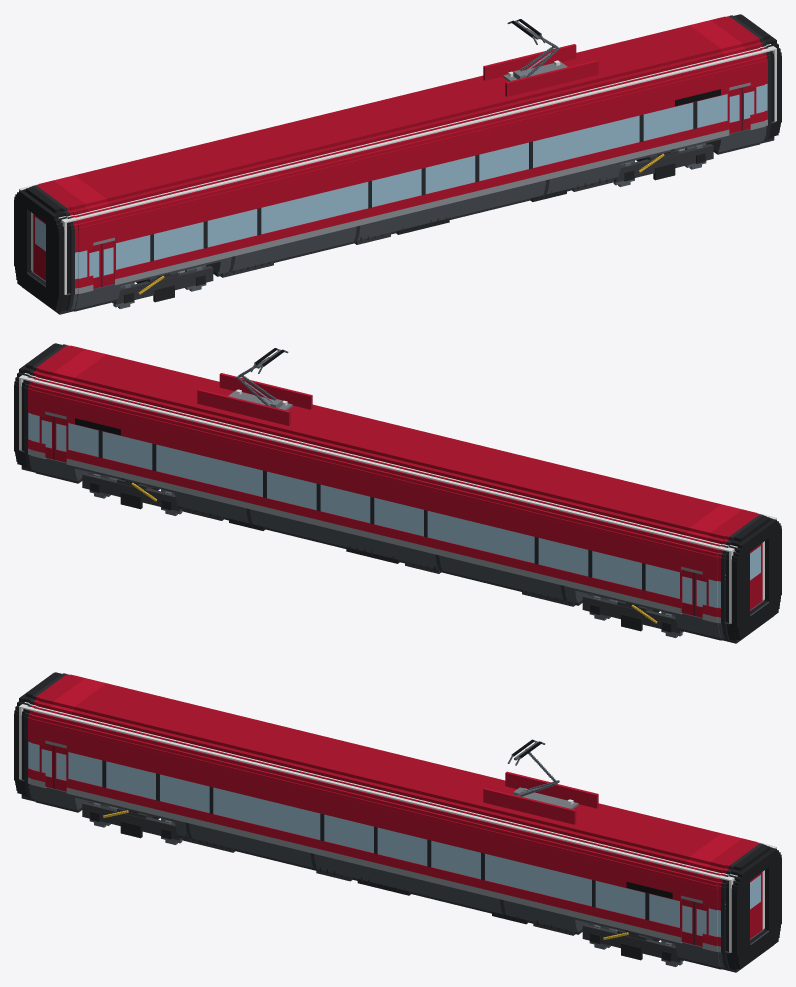
File: frecciarossa_car.obj
3 views of the same model, one above another, from view 1: azimuth 30°, elevation 25°; view 2: azimuth 150°, elevation 25°; view 3: azimuth 330°, elevation 25° (orthographic).
Parts seen in each view (by area): view 1: SHELL, SHELL_diaphragm, SHELL_ceiling, SHELL_pantograph, BOGEY_FRONT, BOGEY_REAR, FRAME, CONNECTING_DOOR_1_CG_CR_TOGGLE_TL_0.98_Z, SHELL_end, EXTERNAL_DOOR_10_CG_DR2_TOGGLE_TL_-0.44_X, EXTERNAL_DOOR_5_CG_DR1_TOGGLE_TL_0.44_X, EXTERNAL_DOOR_4_CG_DR1_TOGGLE_TL_-0.44_X; view 2: SHELL, SHELL_diaphragm, SHELL_ceiling, SHELL_pantograph, BOGEY_FRONT, BOGEY_REAR, FRAME, CONNECTING_DOOR_1_CG_CR_TOGGLE_TL_0.98_Z, SHELL_end, EXTERNAL_DOOR_13_CG_DL2_TOGGLE_TL_-0.44_X, EXTERNAL_DOOR_8_CG_DL1_TOGGLE_TL_0.44_X, EXTERNAL_DOOR_7_CG_DL1_TOGGLE_TL_-0.44_X; view 3: SHELL, SHELL_diaphragm, SHELL_ceiling, SHELL_pantograph, BOGEY_FRONT, BOGEY_REAR, FRAME, CONNECTING_DOOR_2_CG_CF_TOGGLE_TL_0.98_Z, SHELL_end, EXTERNAL_DOOR_10_CG_DR2_TOGGLE_TL_-0.44_X, EXTERNAL_DOOR_5_CG_DR1_TOGGLE_TL_0.44_X, EXTERNAL_DOOR_4_CG_DR1_TOGGLE_TL_-0.44_X.
Boxes of the visible parts, x1,y1,x2,y2 form: SHELL: (22, 14, 777, 314); SHELL_diaphragm: (14, 15, 781, 311); SHELL_ceiling: (21, 15, 774, 222); SHELL_pantograph: (483, 19, 598, 96); BOGEY_FRONT: (614, 144, 713, 182); BOGEY_REAR: (113, 266, 213, 304); FRAME: (220, 178, 613, 277); CONNECTING_DOOR_1_CG_CR_TOGGLE_TL_0.98_Z: (33, 214, 45, 280); SHELL_end: (19, 15, 776, 294); EXTERNAL_DOOR_10_CG_DR2_TOGGLE_TL_-0.44_X: (727, 87, 742, 133); EXTERNAL_DOOR_5_CG_DR1_TOGGLE_TL_0.44_X: (102, 240, 115, 286); EXTERNAL_DOOR_4_CG_DR1_TOGGLE_TL_-0.44_X: (87, 243, 102, 288); SHELL: (18, 343, 773, 643); SHELL_diaphragm: (14, 344, 781, 640); SHELL_ceiling: (20, 344, 774, 551); SHELL_pantograph: (197, 348, 312, 425); BOGEY_FRONT: (82, 473, 181, 511); BOGEY_REAR: (582, 595, 682, 633); FRAME: (182, 507, 575, 606); CONNECTING_DOOR_1_CG_CR_TOGGLE_TL_0.98_Z: (750, 543, 762, 609); SHELL_end: (19, 344, 776, 623); EXTERNAL_DOOR_13_CG_DL2_TOGGLE_TL_-0.44_X: (53, 416, 68, 462); EXTERNAL_DOOR_8_CG_DL1_TOGGLE_TL_0.44_X: (680, 569, 693, 615); EXTERNAL_DOOR_7_CG_DL1_TOGGLE_TL_-0.44_X: (693, 572, 708, 617); SHELL: (18, 672, 773, 972); SHELL_diaphragm: (14, 673, 781, 969); SHELL_ceiling: (21, 673, 774, 880); SHELL_pantograph: (483, 739, 598, 824); BOGEY_FRONT: (582, 924, 682, 962); BOGEY_REAR: (82, 802, 181, 840); FRAME: (182, 834, 575, 935); CONNECTING_DOOR_2_CG_CF_TOGGLE_TL_0.98_Z: (750, 872, 762, 938); SHELL_end: (19, 673, 776, 952); EXTERNAL_DOOR_10_CG_DR2_TOGGLE_TL_-0.44_X: (680, 898, 694, 944); EXTERNAL_DOOR_5_CG_DR1_TOGGLE_TL_0.44_X: (54, 745, 68, 791); EXTERNAL_DOOR_4_CG_DR1_TOGGLE_TL_-0.44_X: (39, 743, 54, 788).
Bounding box in the file's own units: 25.32 × 5.68 × 2.94.
Materials: 1 (1 with a texture image).
